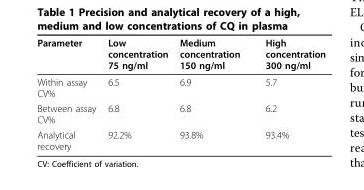table: (36, 36, 324, 151)
table column: (173, 36, 252, 151), (101, 36, 173, 151), (252, 36, 324, 151), (36, 36, 101, 151)
table column header: (36, 36, 324, 73)
table row: (36, 36, 324, 73), (36, 73, 324, 100), (36, 100, 324, 126), (36, 126, 324, 151)
